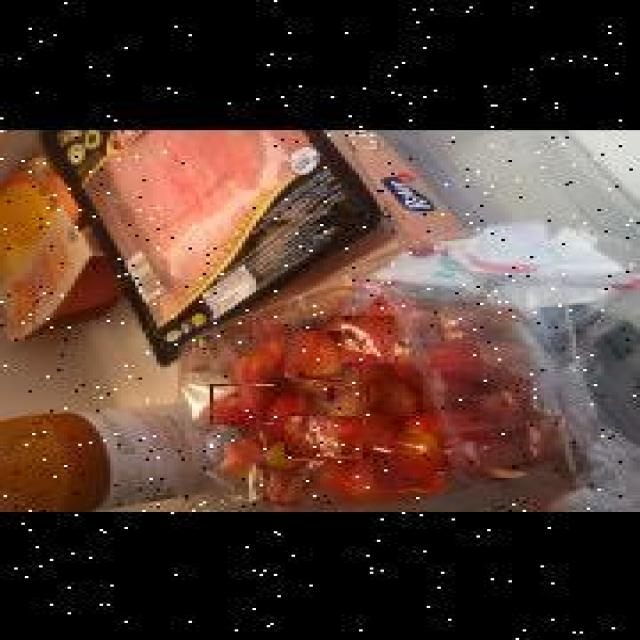tomato: (375, 433, 446, 491), (284, 416, 362, 459), (284, 330, 342, 380), (343, 454, 404, 500), (341, 316, 395, 362), (212, 384, 276, 422), (370, 375, 423, 414), (263, 469, 313, 504)
